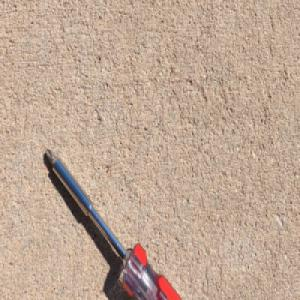Screwdriver: (44, 146, 186, 300)
